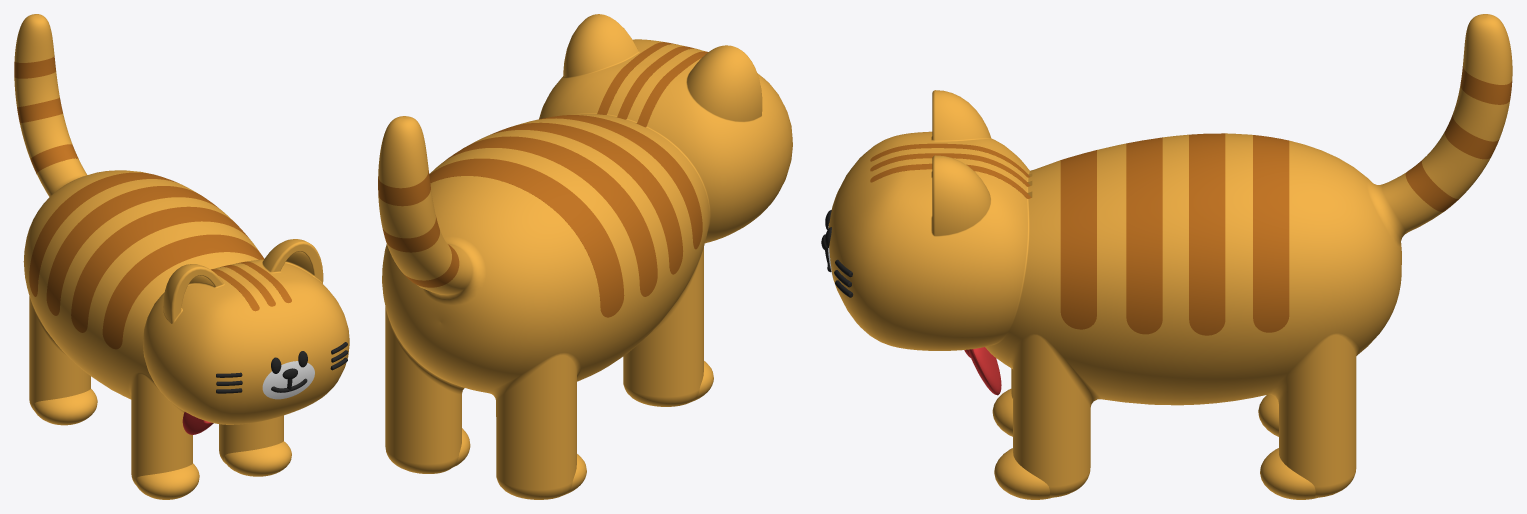
Rendered from cat_2.glb.
3 renders of one model, left to right at view 1: azimuth 30°, elevation 25°; view 2: azimuth 150°, elevation 25°; view 3: azimuth 270°, elevation 25°, orthographic. The views are drawn at different scales.
Parts seen in each view (by area): view 1: 몸 최종, 무늬 최종, 눈 최종, 얼굴무늬 최종, 리본넥타이; view 2: 몸 최종, 무늬 최종; view 3: 몸 최종, 무늬 최종, 리본넥타이.
Boxes of the visible parts, bbox=[...] form: 몸 최종: bbox=[14, 14, 349, 499]; 무늬 최종: bbox=[14, 56, 291, 349]; 눈 최종: bbox=[216, 342, 348, 393]; 얼굴무늬 최종: bbox=[262, 361, 314, 399]; 리본넥타이: bbox=[182, 412, 213, 434]; 몸 최종: bbox=[378, 14, 792, 499]; 무늬 최종: bbox=[378, 42, 708, 317]; 몸 최종: bbox=[828, 14, 1512, 499]; 무늬 최종: bbox=[870, 66, 1512, 335]; 리본넥타이: bbox=[964, 347, 1001, 395].
Size of the model in its own units: 0.0173 by 0.0301 by 0.0429.
